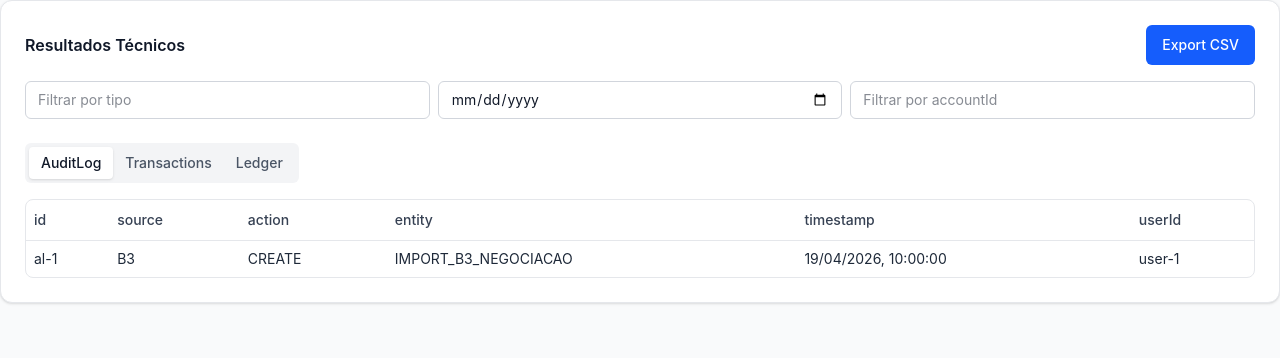
ResultsTable › filtra por tipo na aba Transactions
The image size is (1280, 358).
Click the tab "Transactions" at (169, 163), box top-left (113, 147), bottom-right (224, 179)
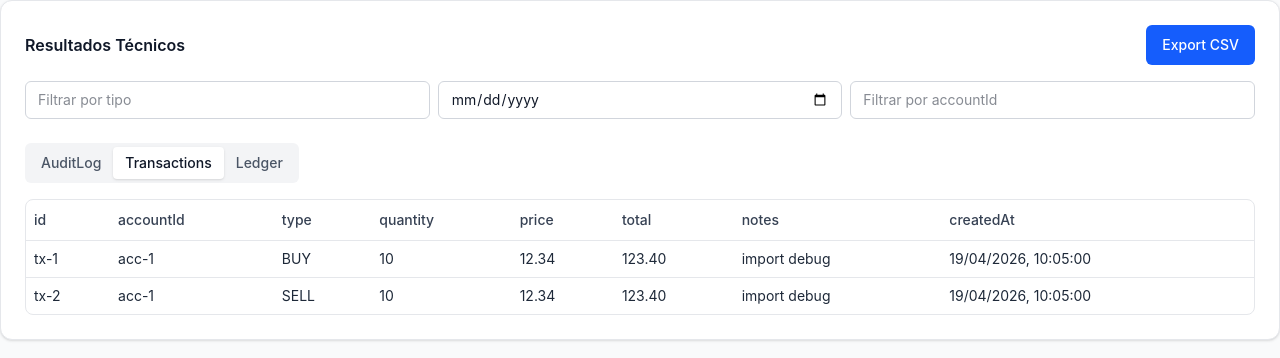
Type "SELL" into the field labelled "Filtrar por tipo" at (227, 100), box top-left (25, 81), bottom-right (430, 119)
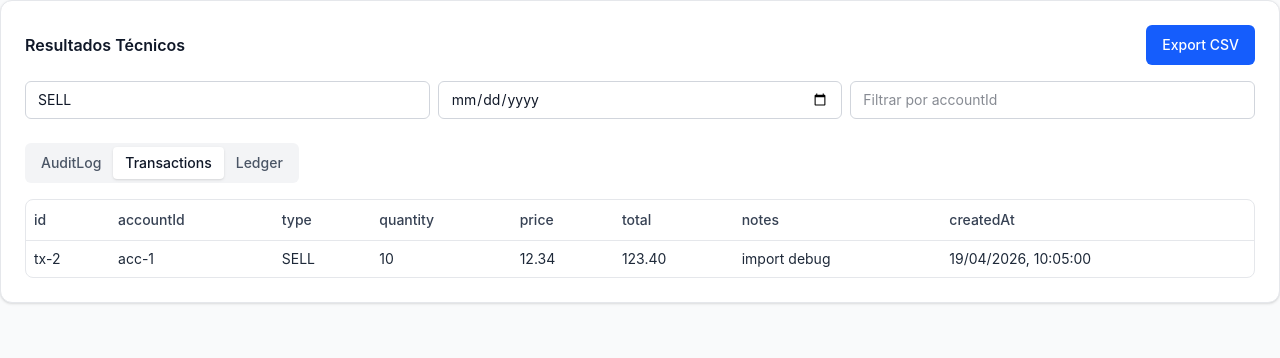
Result: the text "tx-2" is shown at top-left (26, 240), bottom-right (110, 276)
Result: the text "tx-1" is gone
